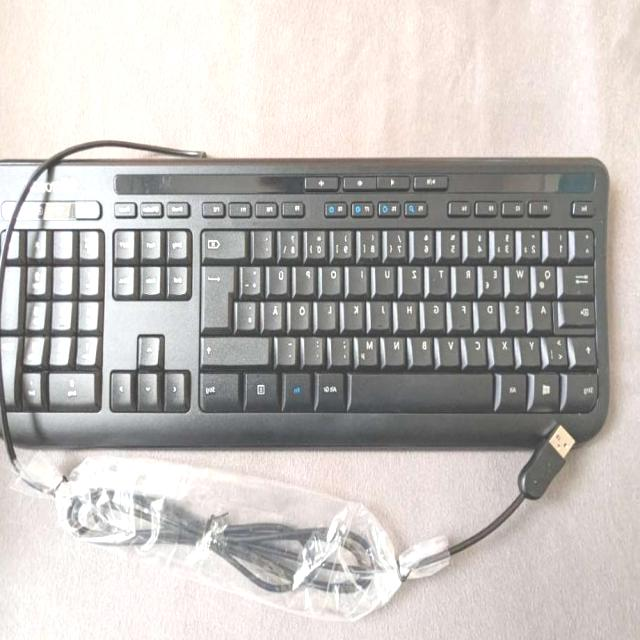0: (308, 225, 330, 257)
1: (550, 226, 571, 258)
2: (522, 225, 544, 257)
3: (496, 225, 518, 257)
4: (470, 224, 490, 256)
5: (443, 225, 464, 257)
6: (415, 226, 437, 256)
7: (389, 224, 410, 256)
8: (362, 224, 383, 256)
9: (336, 225, 356, 257)
a: (533, 297, 555, 327)
accent: (256, 226, 276, 256)
ae: (266, 297, 286, 327)
alt-left: (501, 368, 530, 406)
altgr-right: (319, 368, 349, 406)
b: (413, 332, 436, 364)
c: (468, 333, 490, 363)
caret: (578, 226, 598, 256)
comma: (334, 332, 354, 364)
d: (479, 297, 501, 329)
del: (203, 224, 249, 258)
e: (484, 261, 505, 293)
enter: (204, 262, 238, 329)
f: (453, 297, 474, 327)
g: (427, 297, 447, 327)
h: (399, 297, 420, 327)
hash: (240, 297, 260, 327)
i: (351, 262, 371, 292)
j: (373, 296, 393, 328)
k: (346, 297, 367, 327)
keyboard: (0, 154, 616, 444)
l: (319, 297, 339, 327)
less: (548, 332, 572, 364)
m: (360, 332, 381, 364)
minus: (280, 332, 300, 362)
n: (387, 333, 408, 363)
o: (325, 262, 345, 292)
oe: (293, 297, 313, 327)
p: (298, 262, 318, 292)
plus: (245, 262, 265, 292)
point: (306, 332, 326, 362)
q: (537, 261, 559, 293)
r: (457, 261, 479, 293)
s: (506, 297, 528, 327)
shift-left: (575, 334, 600, 364)
shift-lock: (561, 297, 599, 324)
shift-right: (203, 333, 272, 363)
space: (352, 368, 496, 409)
ss: (283, 226, 303, 256)
strg-left: (568, 369, 602, 408)
strg-right: (200, 368, 243, 409)
t: (431, 261, 451, 293)
tab: (565, 262, 597, 294)
u: (377, 261, 398, 293)
ue: (272, 261, 292, 293)
v: (441, 332, 463, 364)
w: (511, 261, 533, 293)
x: (495, 332, 517, 364)
y: (521, 332, 543, 364)
z: (405, 261, 425, 293)
